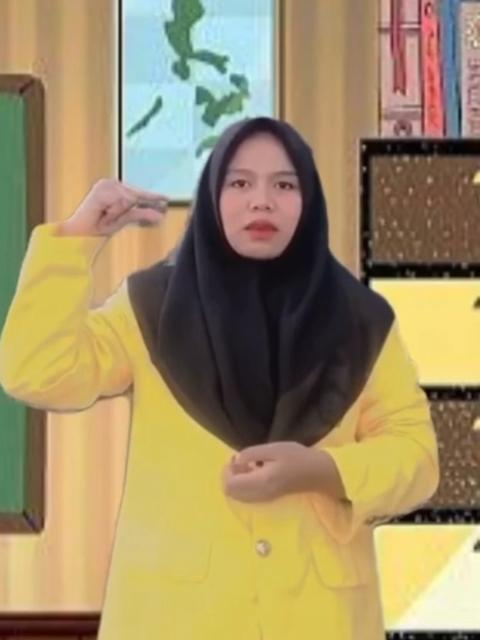G: (74, 175, 172, 239)
